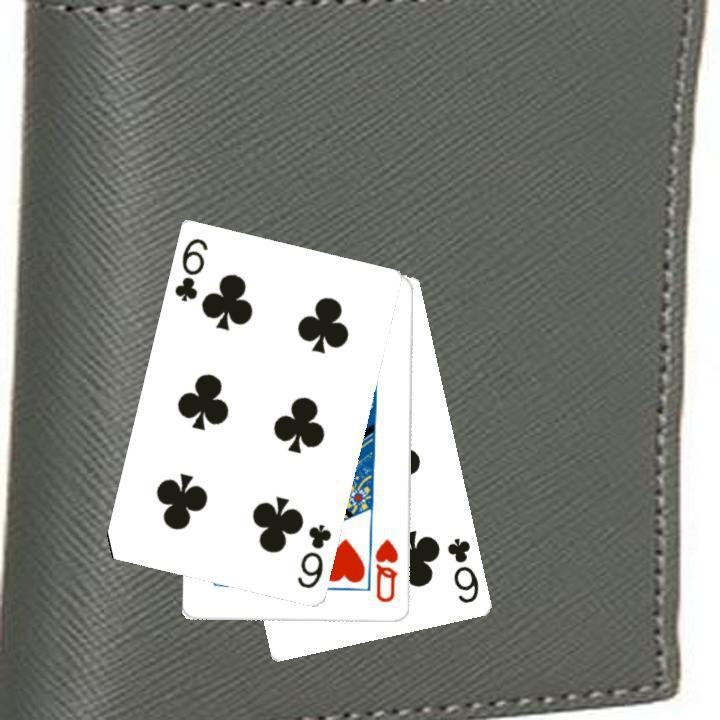6: (293, 520, 334, 591), (170, 234, 210, 305), (443, 534, 482, 606)
Q: (371, 535, 401, 605)
